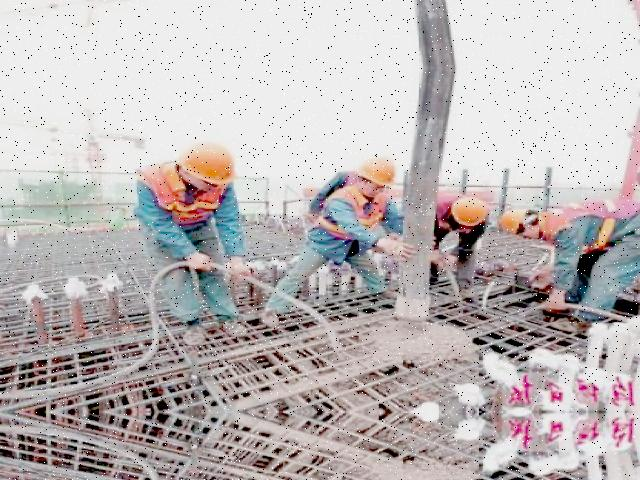Helmet: (175, 133, 246, 189), (349, 154, 403, 192), (448, 190, 494, 232), (496, 205, 542, 241)
